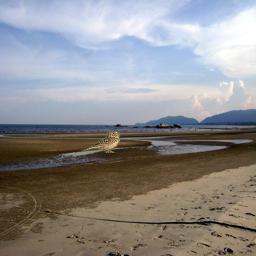Sparrow: (81, 131, 120, 153)
